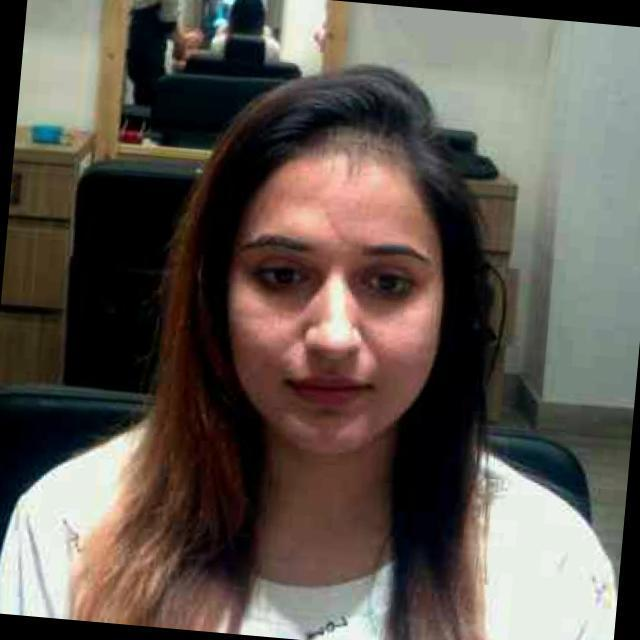puffy_eyes: (341, 275, 404, 318), (255, 280, 319, 310)
